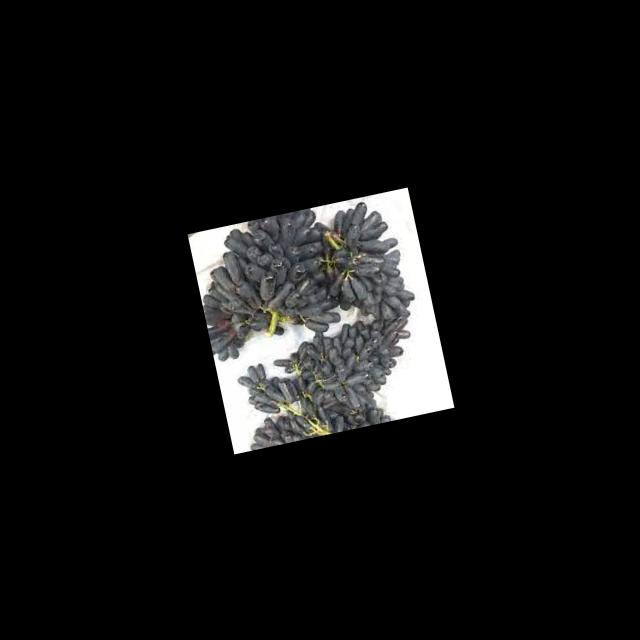grape: (188, 191, 438, 453)
